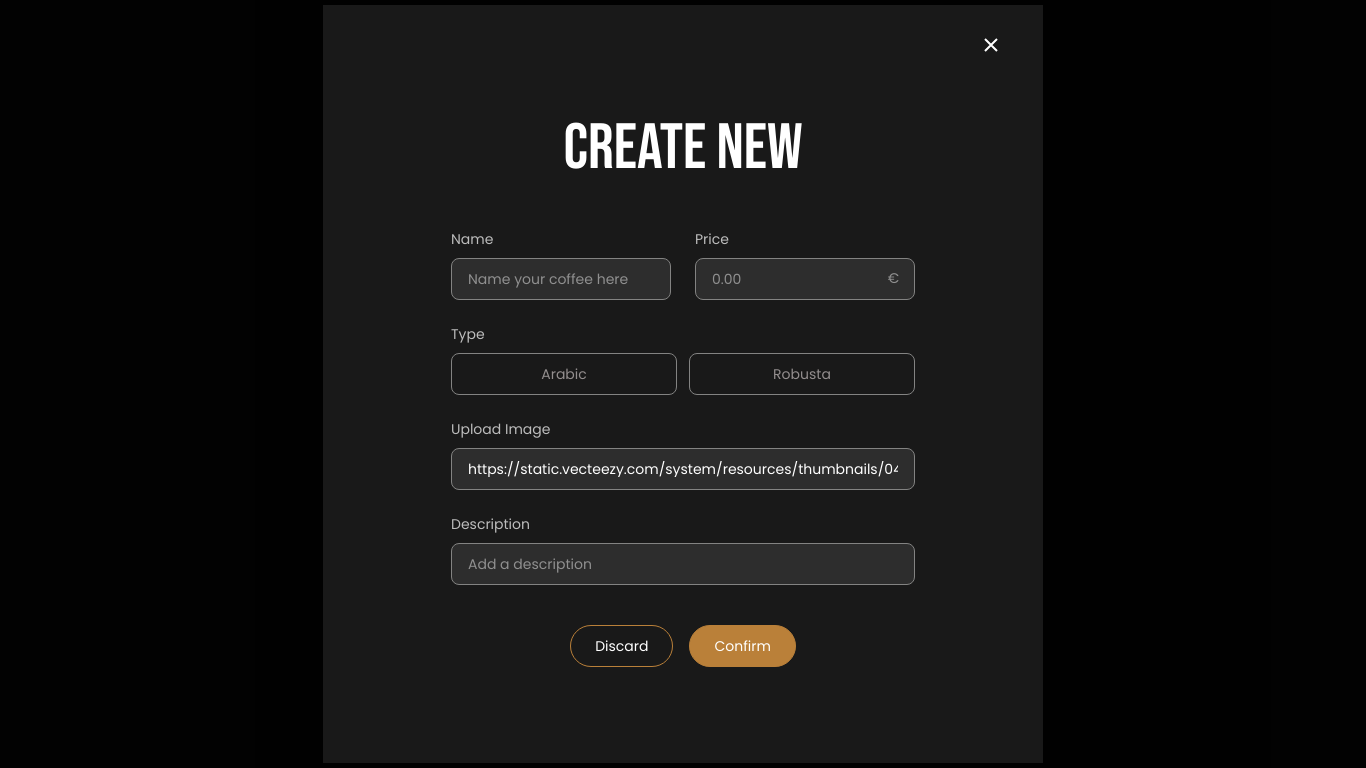
Create Coffee Modal Integration › Server Errors › should show toast when server returns generic error
// Fill valid form
Type "Test Coffee" into the field labelled "Name". click: (561, 279)
box: [451,258,671,300]
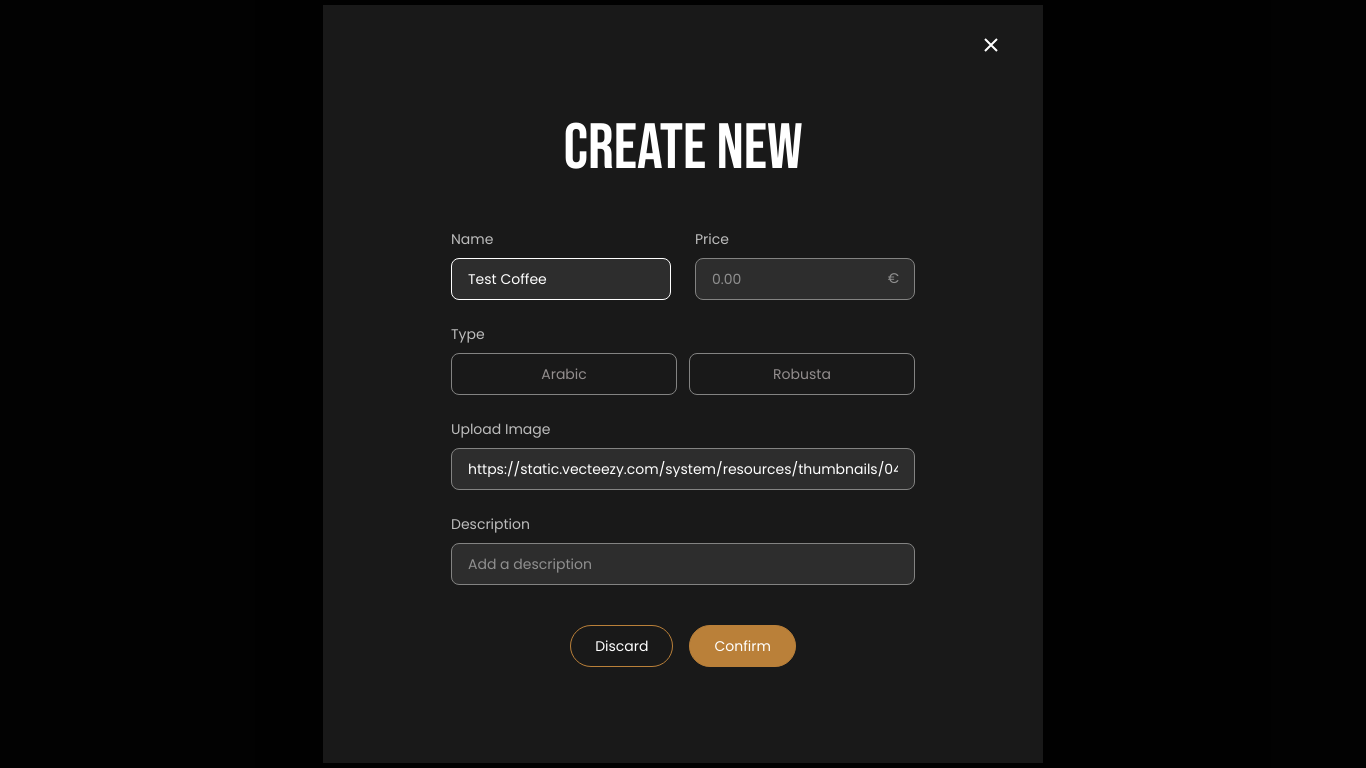
Type "15.99" into the field labelled "Price". click: (805, 279)
box: [695,258,915,300]
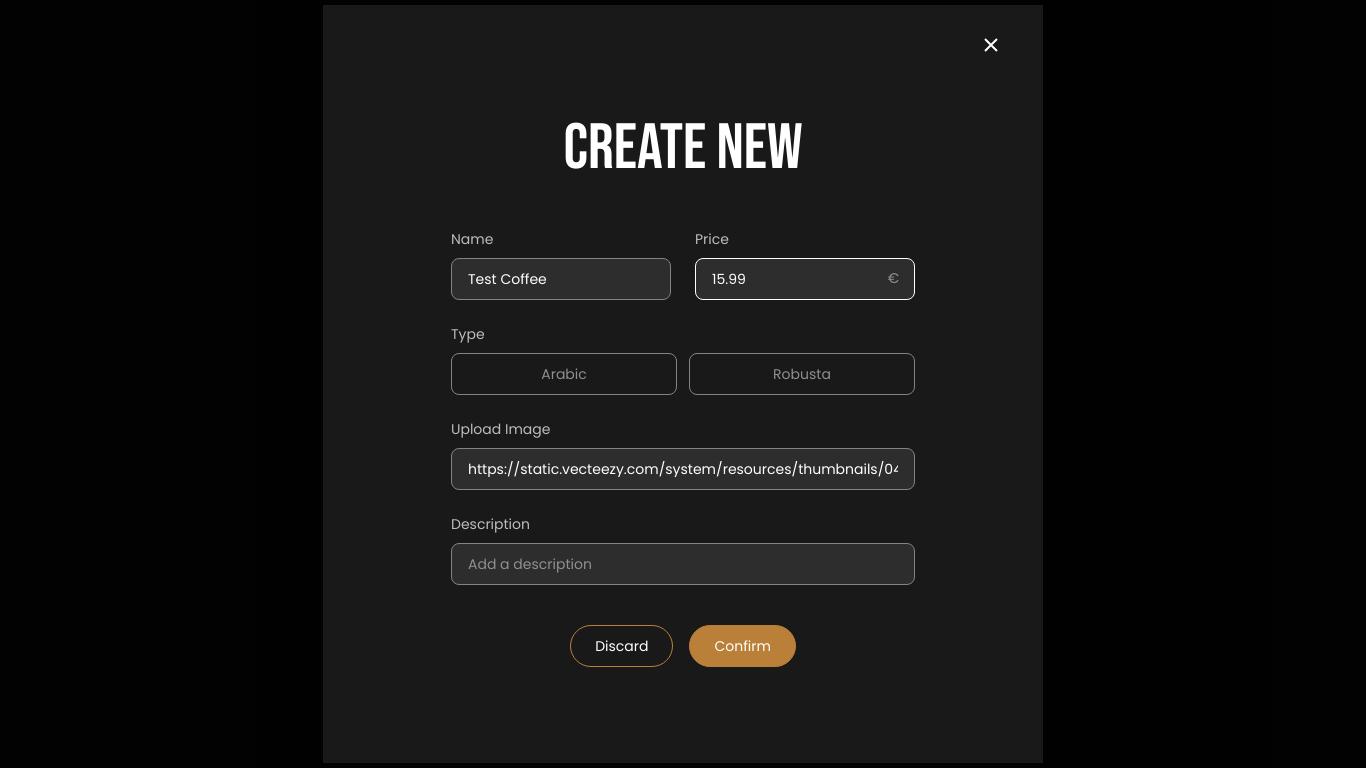
Click the button "Arabic". click: (564, 374)
box: [451,353,677,395]
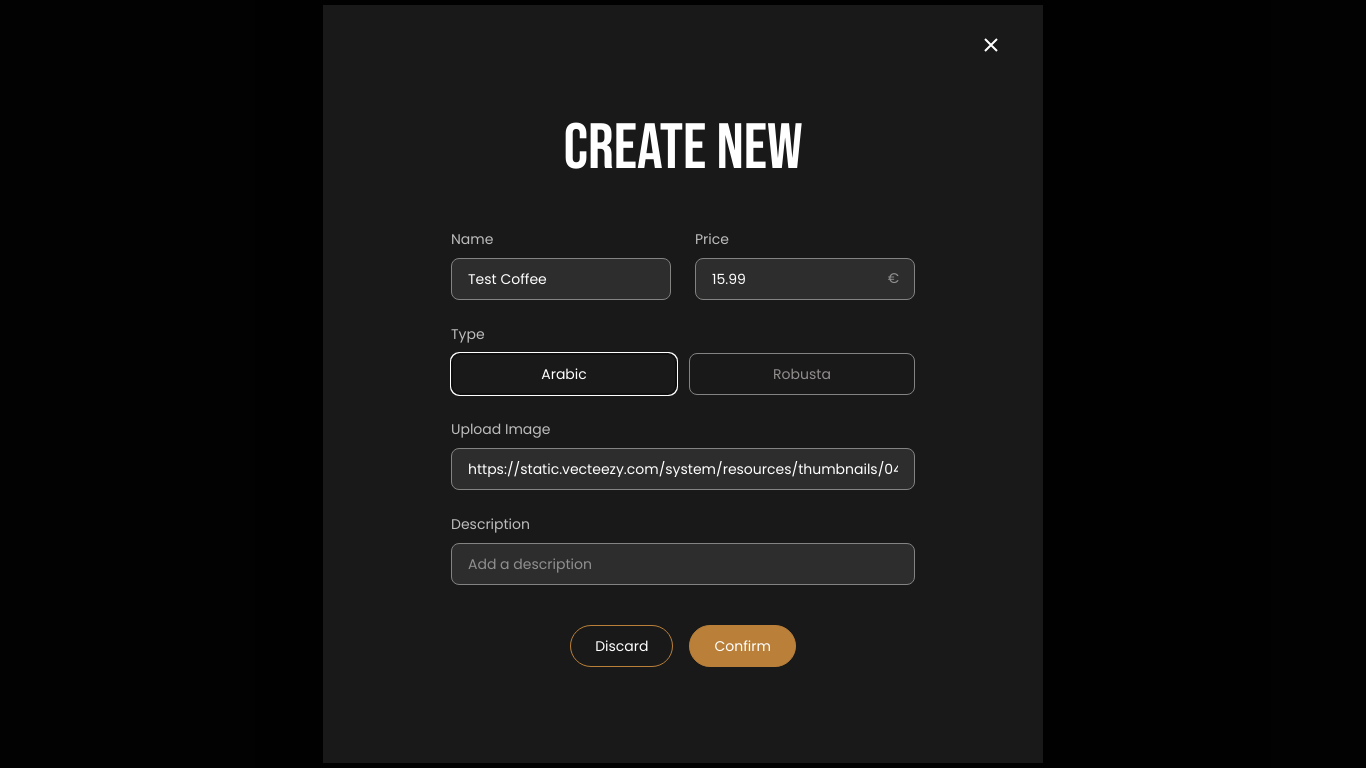
Type "A test coffee" into the field labelled "Description". click: (683, 564)
box: [451,543,915,585]
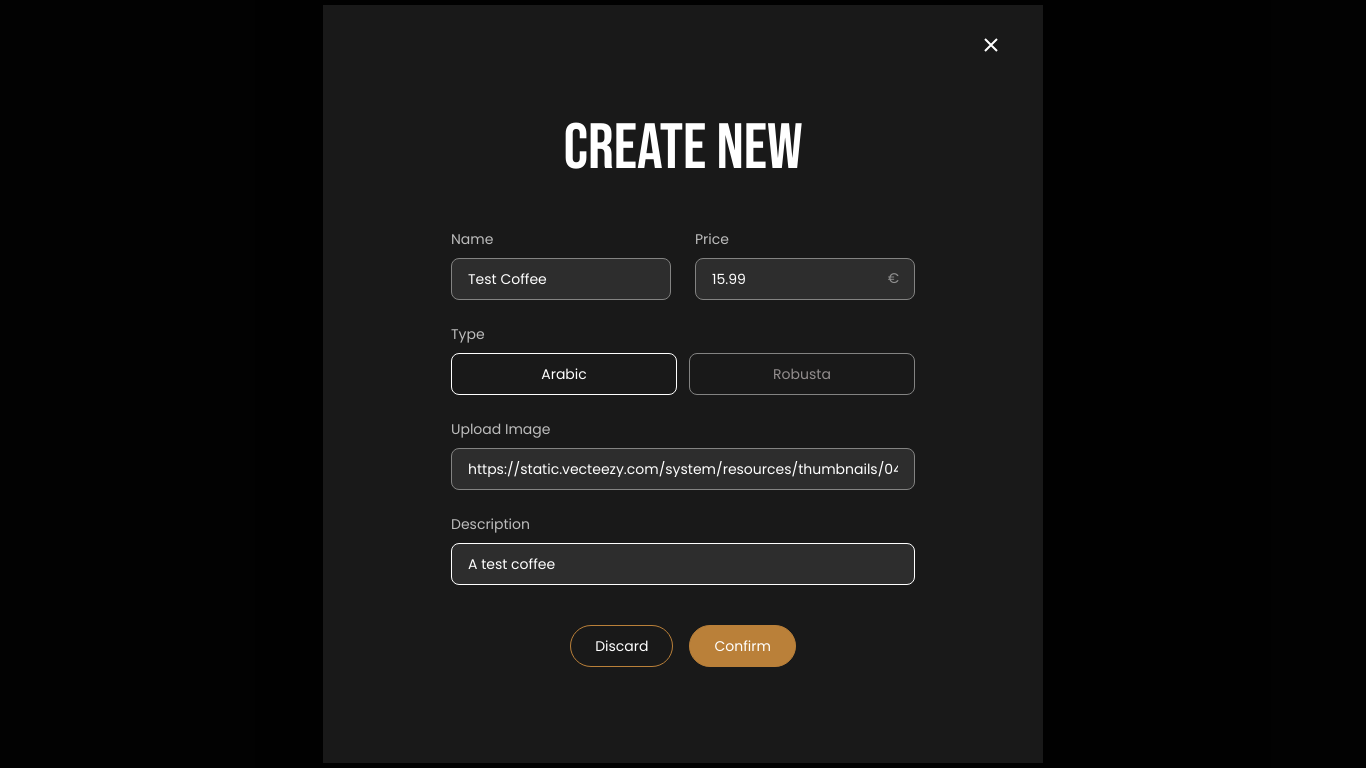
Click the button "Confirm". click: (743, 646)
box: [689,625,796,667]
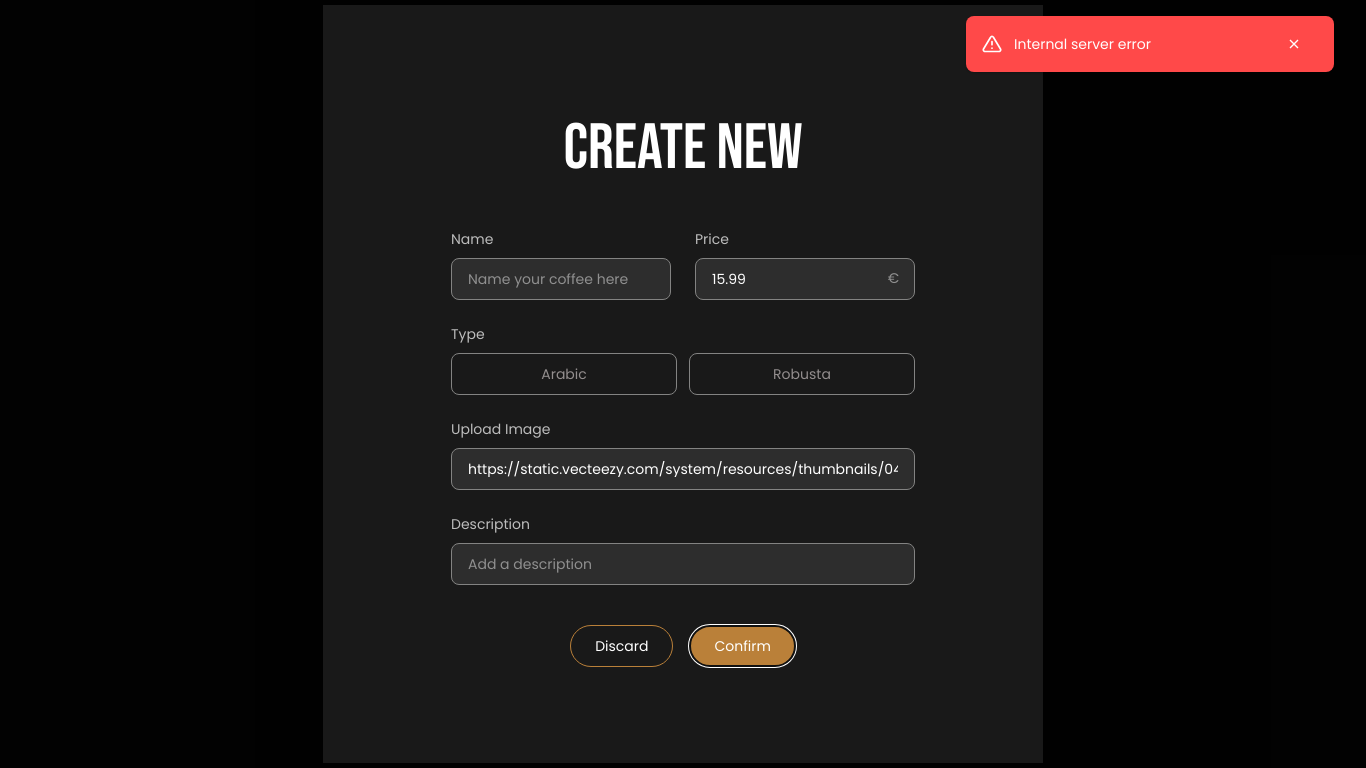
Now the text "Internal server error" is shown, box [1014,34,1151,54]
